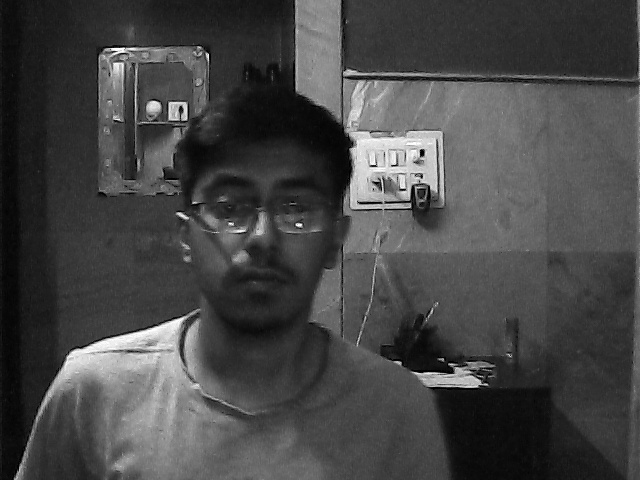nomask: (185, 133, 337, 332)
